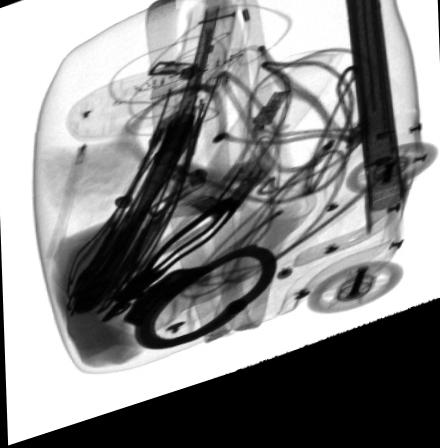HandCuffs: (95, 213, 281, 363)
